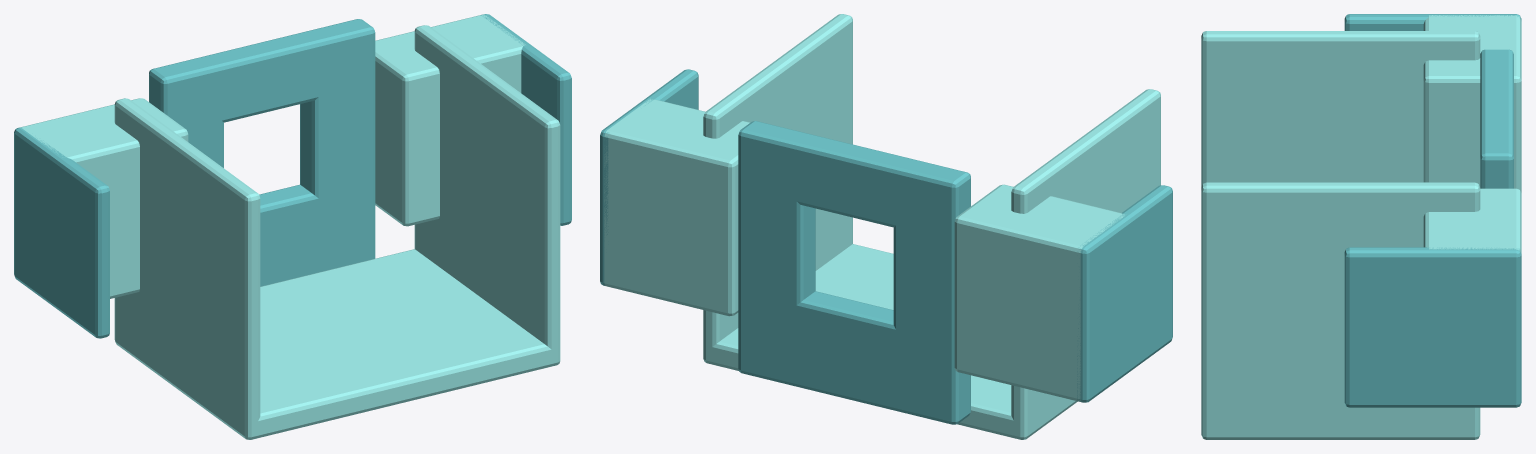
Rendered from diamond_chestplate_held.gltf.
3 views of the same model, side by side, from view 1: azimuth 30°, elevation 25°; view 2: azimuth 150°, elevation 25°; view 3: azimuth 270°, elevation 25° (orthographic). The views are drawn at different scales.
Parts seen in each view (by area): view 1: armor_diamond_chestplate_held; view 2: armor_diamond_chestplate_held; view 3: armor_diamond_chestplate_held.
Boxes of the visible parts, box(x1,y1,x2,y2) form: armor_diamond_chestplate_held: box(14, 14, 571, 439); armor_diamond_chestplate_held: box(600, 14, 1172, 439); armor_diamond_chestplate_held: box(1201, 14, 1521, 439).
Size of the model in its own units: 0.2 by 0.1053 by 0.1124.
